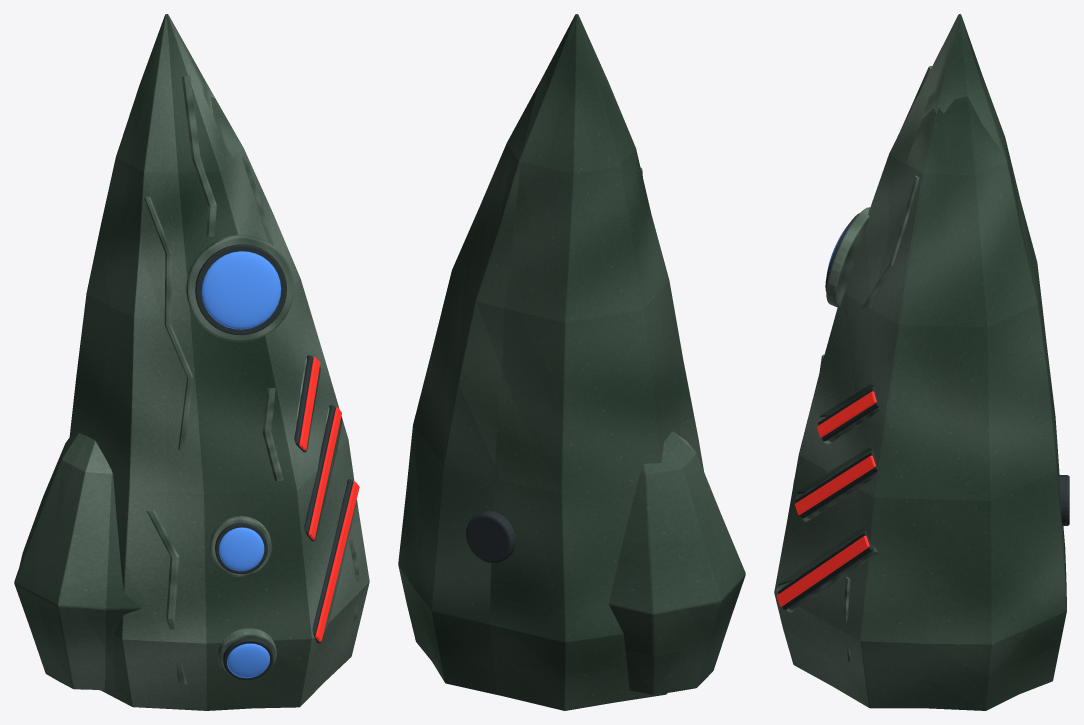
The picture shows the model from 3 angles, left to right: view 1: azimuth 30°, elevation 25°; view 2: azimuth 150°, elevation 25°; view 3: azimuth 270°, elevation 25°; orthographic projection. The views are drawn at different scales.
Parts seen in each view (by area): view 1: Main Purity mineral wedge, Low left mineral buttress, Upper blue lens, Upper blue alloy rim, Irregular exposed mineral ridge 1, Upper blue dark seat, Lower blue 0 lens, Irregular exposed mineral ridge 0, Irregular exposed mineral ridge 2, Red diagonal slit 2, Lower blue 1 lens, Red diagonal slit 1 (+9 smaller); view 2: Main Purity mineral wedge, Low left mineral buttress, Authored rear service closure; view 3: Main Purity mineral wedge, Upper blue alloy rim, Red diagonal slit 2, Red diagonal slit 1, Red slit 2 dark recessed surround, Red slit 1 dark recessed surround, Red diagonal slit 0, Irregular exposed mineral ridge 3, Red slit 0 dark recessed surround, Red slit 2 alloy rim, Authored rear service closure, Red slit 1 alloy rim.
Boxes of the visible parts, x1=… form: Main Purity mineral wedge: x1=69, y1=14, x2=369, y2=710; Low left mineral buttress: x1=14, y1=433, x2=141, y2=690; Upper blue lens: x1=201, y1=251, x2=281, y2=329; Upper blue alloy rim: x1=186, y1=234, x2=294, y2=341; Irregular exposed mineral ridge 1: x1=144, y1=196, x2=193, y2=450; Upper blue dark seat: x1=195, y1=244, x2=286, y2=335; Lower blue 0 lens: x1=219, y1=527, x2=264, y2=571; Irregular exposed mineral ridge 0: x1=181, y1=75, x2=216, y2=236; Irregular exposed mineral ridge 2: x1=146, y1=510, x2=187, y2=684; Red diagonal slit 2: x1=315, y1=481, x2=359, y2=641; Lower blue 1 lens: x1=227, y1=643, x2=269, y2=678; Red diagonal slit 1: x1=308, y1=407, x2=341, y2=539; Main Purity mineral wedge: x1=398, y1=14, x2=703, y2=710; Low left mineral buttress: x1=609, y1=431, x2=745, y2=694; Authored rear service closure: x1=466, y1=510, x2=515, y2=563; Main Purity mineral wedge: x1=774, y1=14, x2=1066, y2=710; Upper blue alloy rim: x1=826, y1=207, x2=870, y2=307; Red diagonal slit 2: x1=776, y1=535, x2=869, y2=606; Red diagonal slit 1: x1=794, y1=455, x2=875, y2=514; Red slit 2 dark recessed surround: x1=777, y1=531, x2=873, y2=609; Red slit 1 dark recessed surround: x1=795, y1=451, x2=877, y2=518; Red diagonal slit 0: x1=817, y1=391, x2=876, y2=437; Irregular exposed mineral ridge 3: x1=861, y1=175, x2=919, y2=311; Red slit 0 dark recessed surround: x1=818, y1=387, x2=878, y2=441; Red slit 2 alloy rim: x1=784, y1=530, x2=876, y2=610; Authored rear service closure: x1=1059, y1=475, x2=1069, y2=525; Red slit 1 alloy rim: x1=801, y1=450, x2=878, y2=519.
Bounding box in the file's own units: 1.28 × 2.57 × 1.1.
5 materials, 2 textured.
